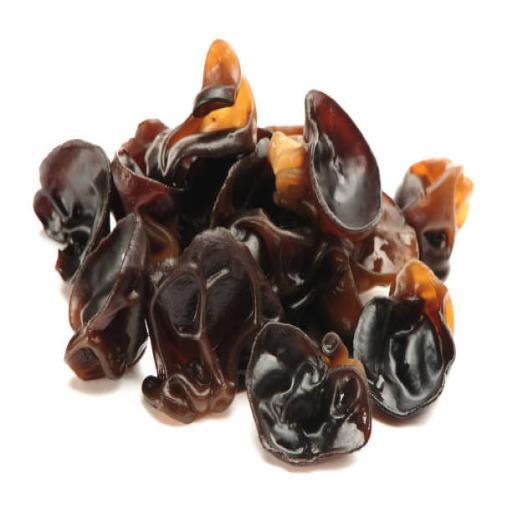mushroom: (24, 33, 475, 474)
